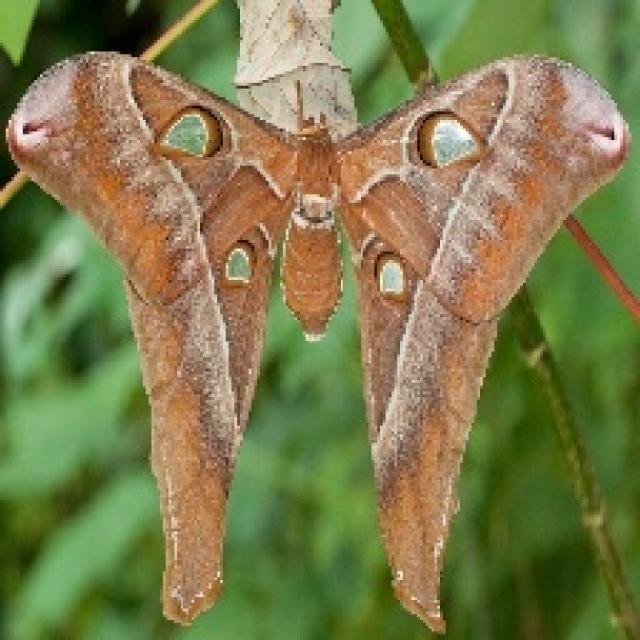butterfly: (0, 40, 637, 634)
